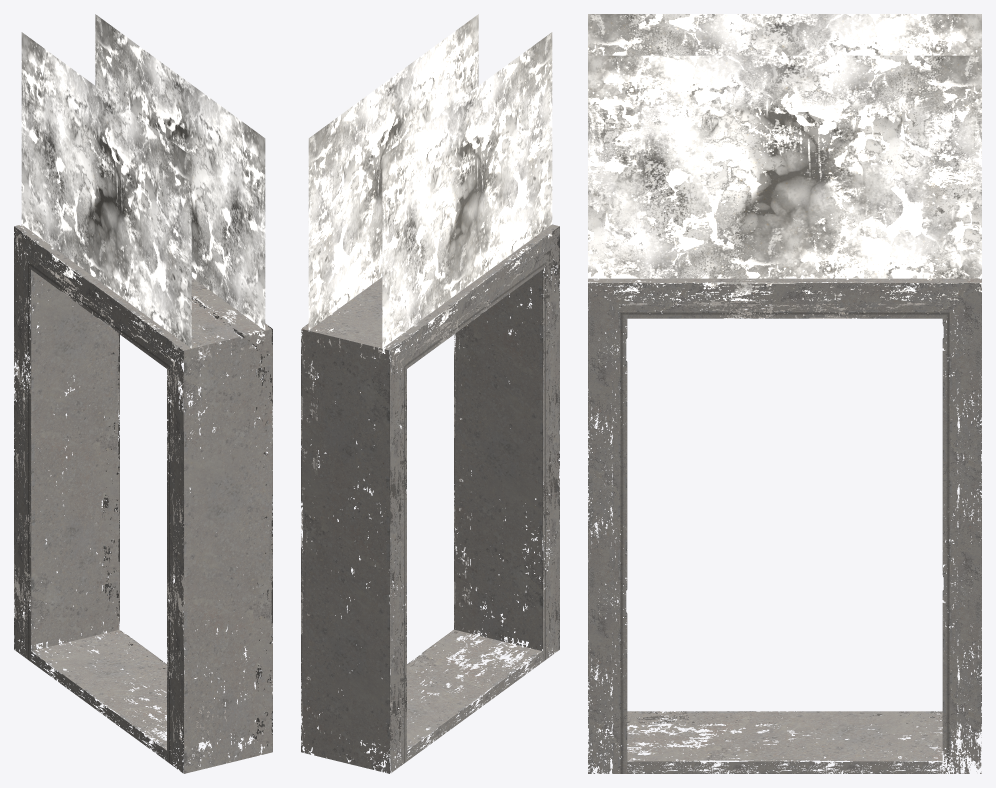
Rendered from SM_wall_A_doorway_2x2_01_01.fbx.
The picture shows the model from 3 angles, left to right: view 1: azimuth 30°, elevation 25°; view 2: azimuth 150°, elevation 25°; view 3: azimuth 270°, elevation 25°; orthographic projection. The views are drawn at different scales.
Visible parts, largest first — view 1: SM_wall_A_doorway_2x2_01_01_LOD0; view 2: SM_wall_A_doorway_2x2_01_01_LOD0; view 3: SM_wall_A_doorway_2x2_01_01_LOD0.
Part boxes in pixels (box(x1,y1,x2,y2)): SM_wall_A_doorway_2x2_01_01_LOD0: box(14, 14, 272, 773); SM_wall_A_doorway_2x2_01_01_LOD0: box(301, 14, 559, 773); SM_wall_A_doorway_2x2_01_01_LOD0: box(588, 14, 981, 773).
Size of the model in its own units: 60.46 by 200 by 400.
Materials: 3 (3 with a texture image).
